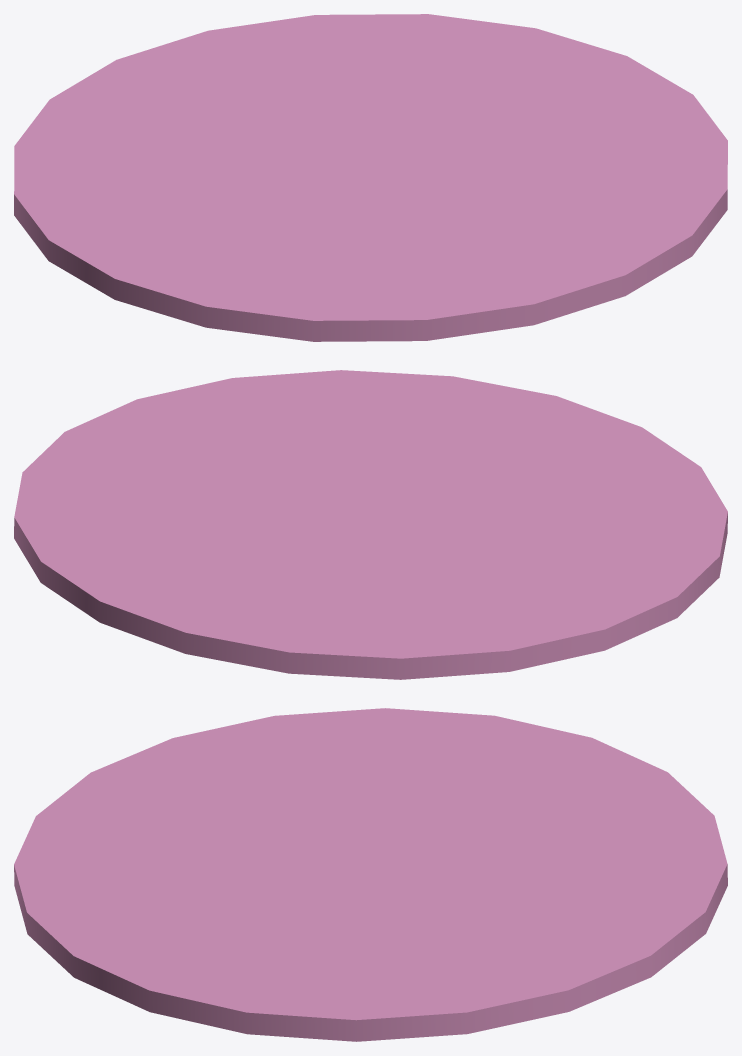
Rendered from SM_Mousepad_KP.fbx.
The picture shows the model from 3 angles, top to bottom: view 1: azimuth 30°, elevation 25°; view 2: azimuth 150°, elevation 25°; view 3: azimuth 270°, elevation 25°; orthographic projection. The views are drawn at different scales.
Parts seen in each view (by area): view 1: Mousepad; view 2: Mousepad; view 3: Mousepad.
Boxes of the visible parts, x1,y1,x2,y2 form: Mousepad: (14,14,727,341); Mousepad: (14,370,727,679); Mousepad: (14,708,727,1041).
Bounding box in the file's own units: 0.4301 × 0.0216 × 0.4133.
